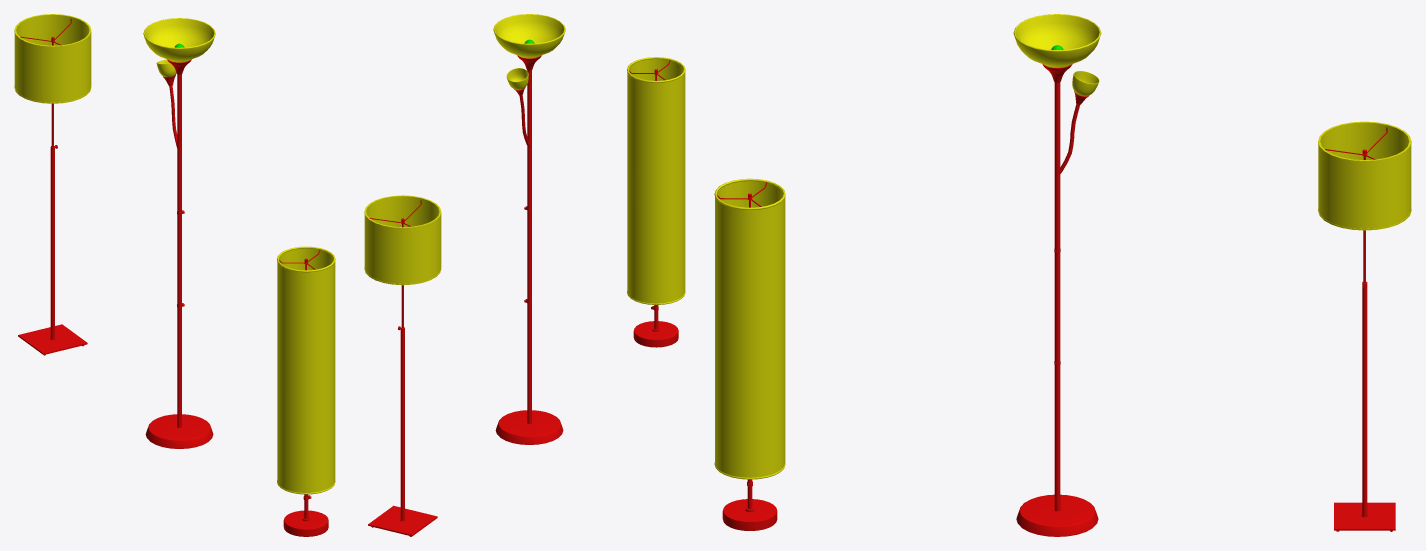
File: thorkea_floor_lamps_grp.fbx
3 views of the same model, side by side, from view 1: azimuth 30°, elevation 25°; view 2: azimuth 150°, elevation 25°; view 3: azimuth 270°, elevation 25° (orthographic). The views are drawn at different scales.
Visible parts, largest first — view 1: thorkea_floor_lamp_holmo, thorkea_floor_lamp_alang, thorkea_floor_lamp_not; view 2: thorkea_floor_lamp_holmo, thorkea_floor_lamp_alang, thorkea_floor_lamp_not; view 3: thorkea_floor_lamp_holmo, thorkea_floor_lamp_alang, thorkea_floor_lamp_not.
Part boxes in pixels (bbox=[...]): thorkea_floor_lamp_holmo: bbox=[277, 246, 335, 536]; thorkea_floor_lamp_alang: bbox=[14, 14, 91, 355]; thorkea_floor_lamp_not: bbox=[143, 18, 215, 448]; thorkea_floor_lamp_holmo: bbox=[627, 57, 685, 347]; thorkea_floor_lamp_alang: bbox=[364, 195, 441, 536]; thorkea_floor_lamp_not: bbox=[493, 14, 565, 444]; thorkea_floor_lamp_holmo: bbox=[714, 178, 785, 530]; thorkea_floor_lamp_alang: bbox=[1318, 121, 1411, 531]; thorkea_floor_lamp_not: bbox=[1013, 14, 1101, 536].
Size of the model in its own units: 30.44 by 175 by 227.
